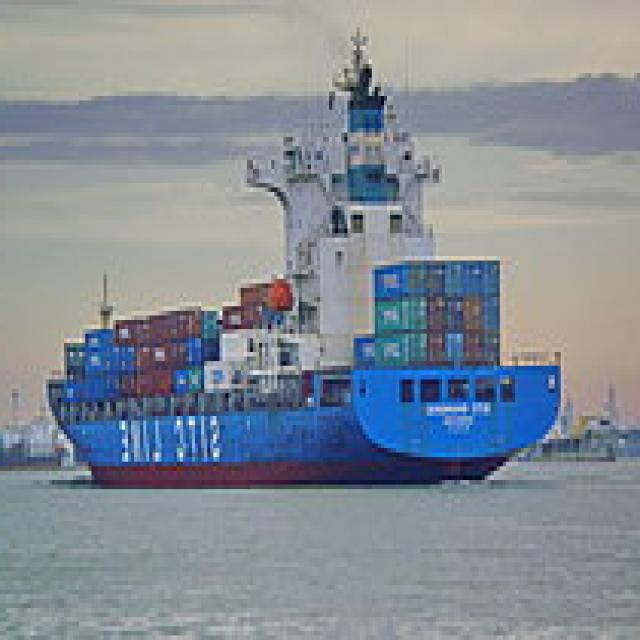Cargo: (46, 18, 567, 485)
